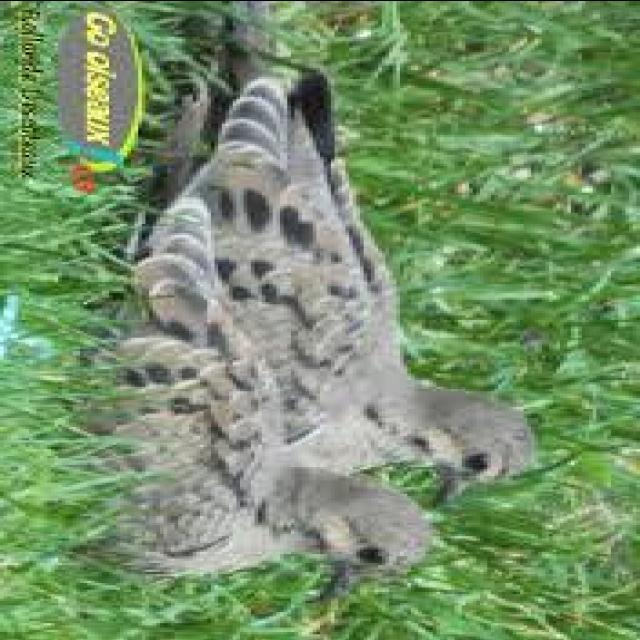pigeon: (77, 202, 439, 612)
